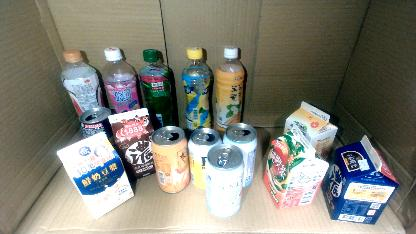Can: (206, 143, 244, 217), (151, 126, 191, 194), (223, 123, 257, 187), (188, 128, 223, 190), (78, 108, 116, 150)
Plastic Bottle: (60, 48, 106, 119), (139, 48, 175, 130), (181, 46, 213, 136), (102, 47, 142, 117), (216, 45, 245, 140)
